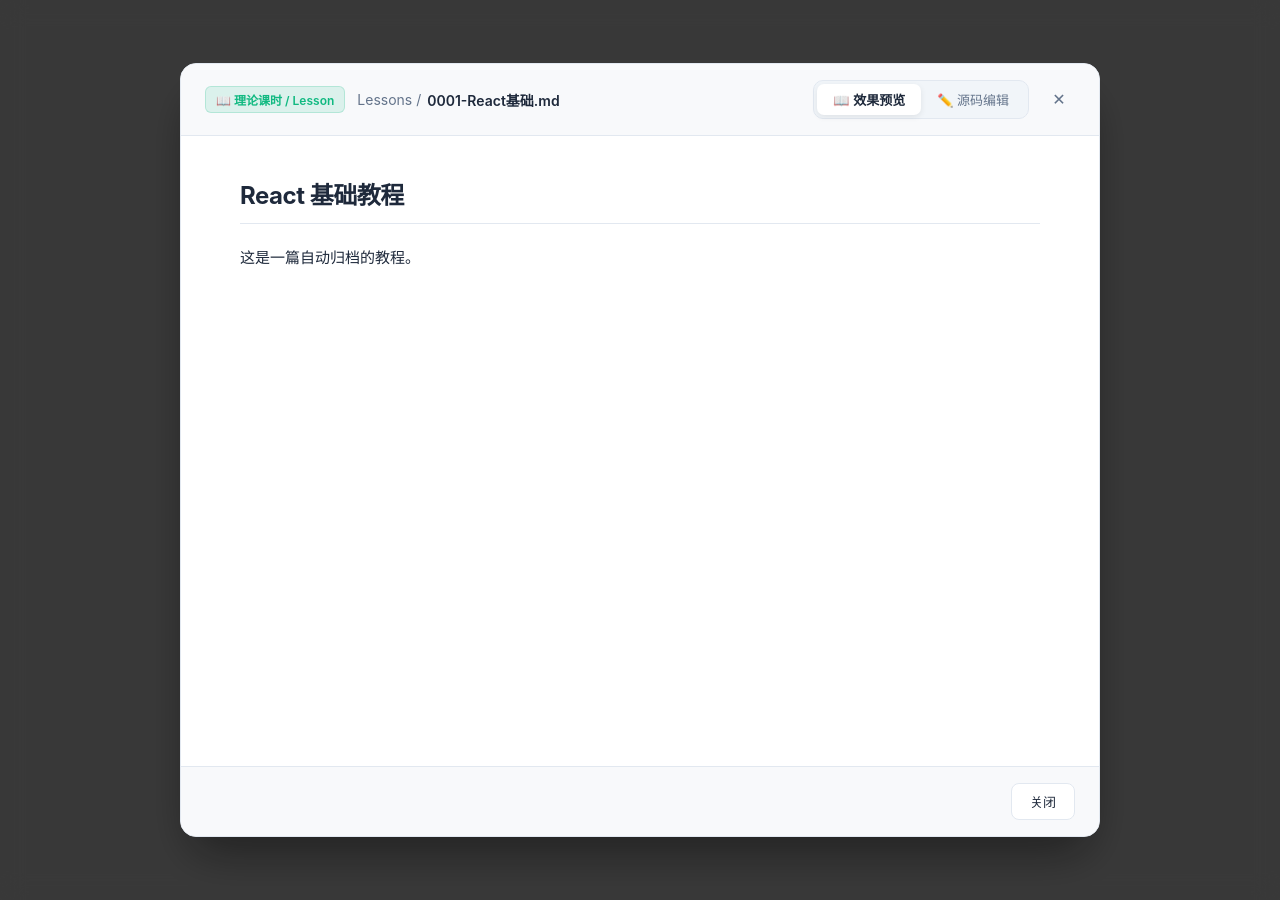
PreviewEditModal Component Tests (TDD) › TDD 2: 无缝切换到源码编辑态 (Switches to source edit mode)
# 点击切换到编辑态
Click the button "✏️ 源码编辑": (973, 100) [921,84,1025,115]
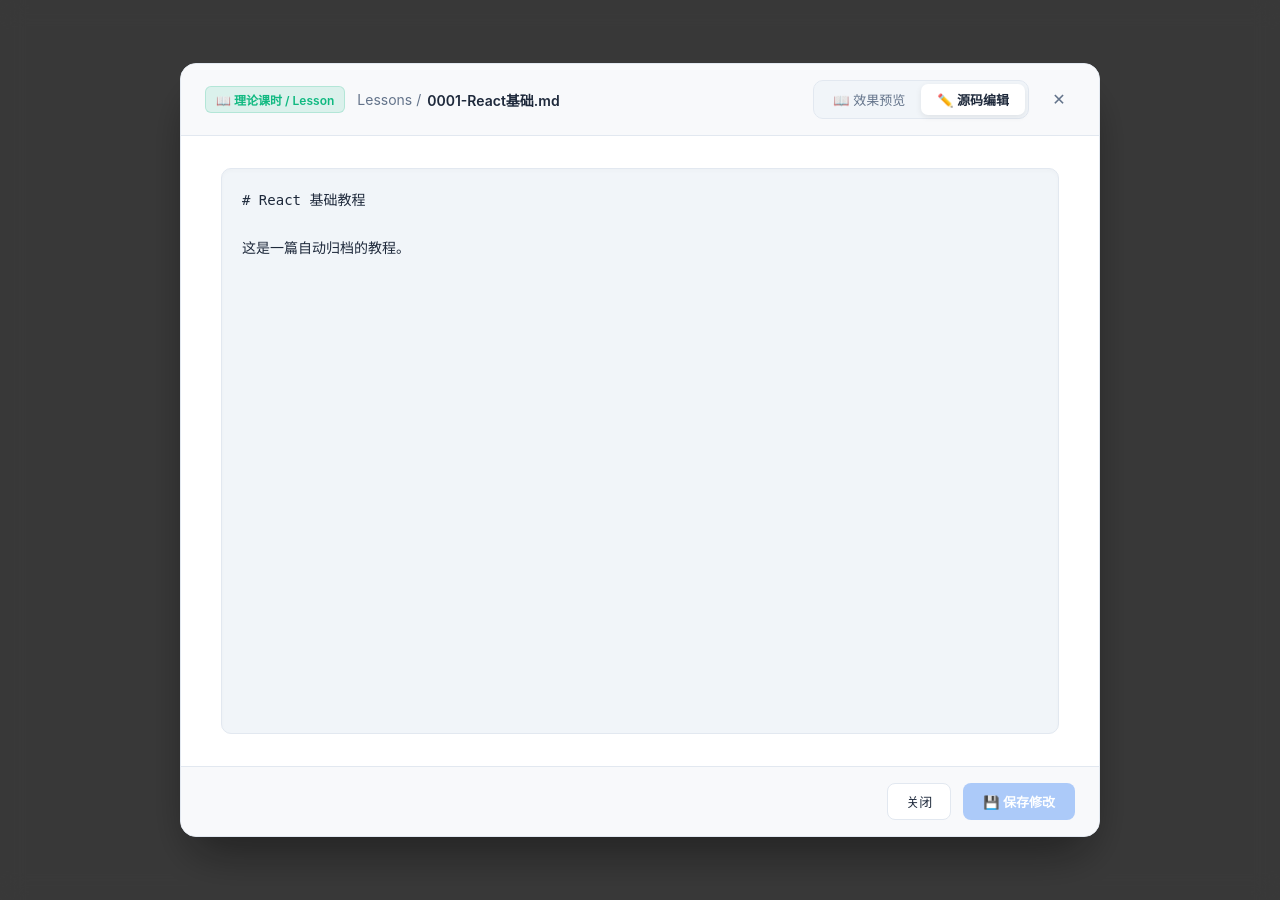
Expected: the text box is shown, [221,168,1059,734]
